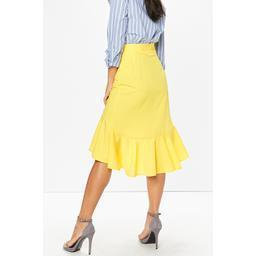skirt: (90, 43, 188, 178)
